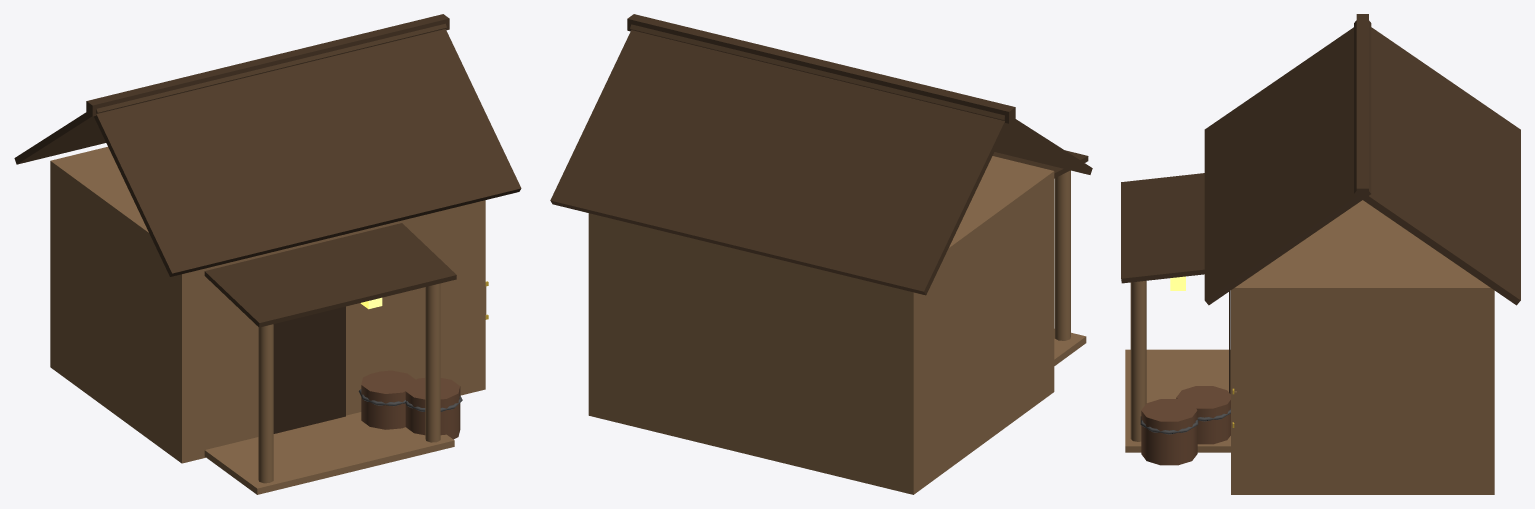
File: tavern.glb
3 views of the same model, side by side, from view 1: azimuth 30°, elevation 25°; view 2: azimuth 150°, elevation 25°; view 3: azimuth 270°, elevation 25° (orthographic). The views are drawn at different scales.
Parts seen in each view (by area): view 1: roof_panel_2, walls_0, porch_roof_8, porch_deck_5, door_1, roof_ridge_4, roof_panel_3, porch_post_6, porch_post_7, barrel_13, barrel_12; view 2: walls_0, roof_panel_3, roof_ridge_4, roof_panel_2, porch_post_6, porch_deck_5; view 3: walls_0, roof_panel_2, roof_panel_3, porch_roof_8, porch_deck_5, barrel_12, porch_post_7, roof_ridge_4, barrel_13.
Part boxes in pixels (x1,y1,x2,y2): roof_panel_2: (94, 29, 521, 276); walls_0: (50, 146, 485, 463); porch_roof_8: (204, 223, 456, 327); porch_deck_5: (204, 412, 454, 494); door_1: (273, 306, 345, 433); roof_ridge_4: (86, 14, 449, 116); roof_panel_3: (14, 23, 446, 164); porch_post_6: (258, 324, 273, 483); porch_post_7: (425, 283, 440, 442); barrel_13: (361, 370, 415, 429); barrel_12: (405, 378, 460, 439); walls_0: (588, 156, 1054, 494); roof_panel_3: (550, 30, 1007, 295); roof_ridge_4: (627, 14, 1015, 123); roof_panel_2: (630, 24, 1092, 174); porch_post_6: (1054, 170, 1070, 340); porch_deck_5: (1054, 329, 1086, 365); walls_0: (1231, 200, 1494, 494); roof_panel_2: (1204, 20, 1371, 305); roof_panel_3: (1354, 20, 1520, 305); porch_roof_8: (1121, 173, 1204, 283); porch_deck_5: (1125, 349, 1230, 452); barrel_12: (1141, 399, 1197, 465); porch_post_7: (1130, 280, 1146, 441); roof_ridge_4: (1356, 14, 1368, 199); barrel_13: (1176, 386, 1230, 444).
Size of the model in its own units: 4.7 by 4.01 by 4.55.
